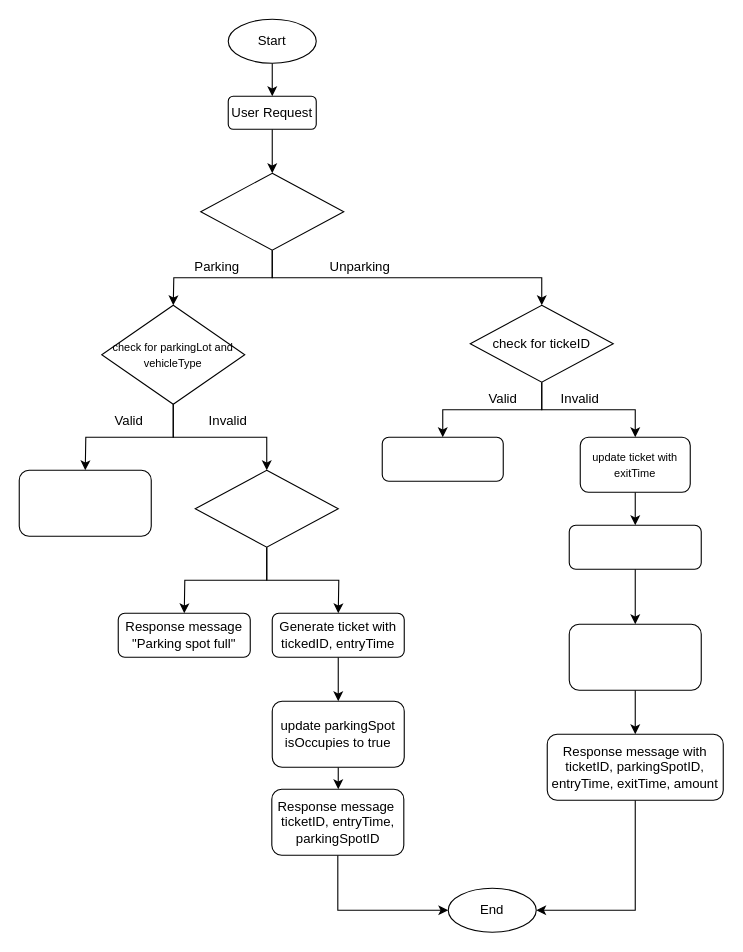
This 743x952 diagram has some shape labels left out. Each missing label, with the centre of its shape:
availability for parkingSpot: (x=266, y=508)
calculate fee using the FeeModel: (x=634, y=546)
Decision (Parking/ Unparking): (x=272, y=211)
Response message "Parking lot not found" "Vehicle type not found": (x=84, y=502)
Response message "ticket not found": (x=442, y=458)
update ticket with amount: (x=634, y=656)
